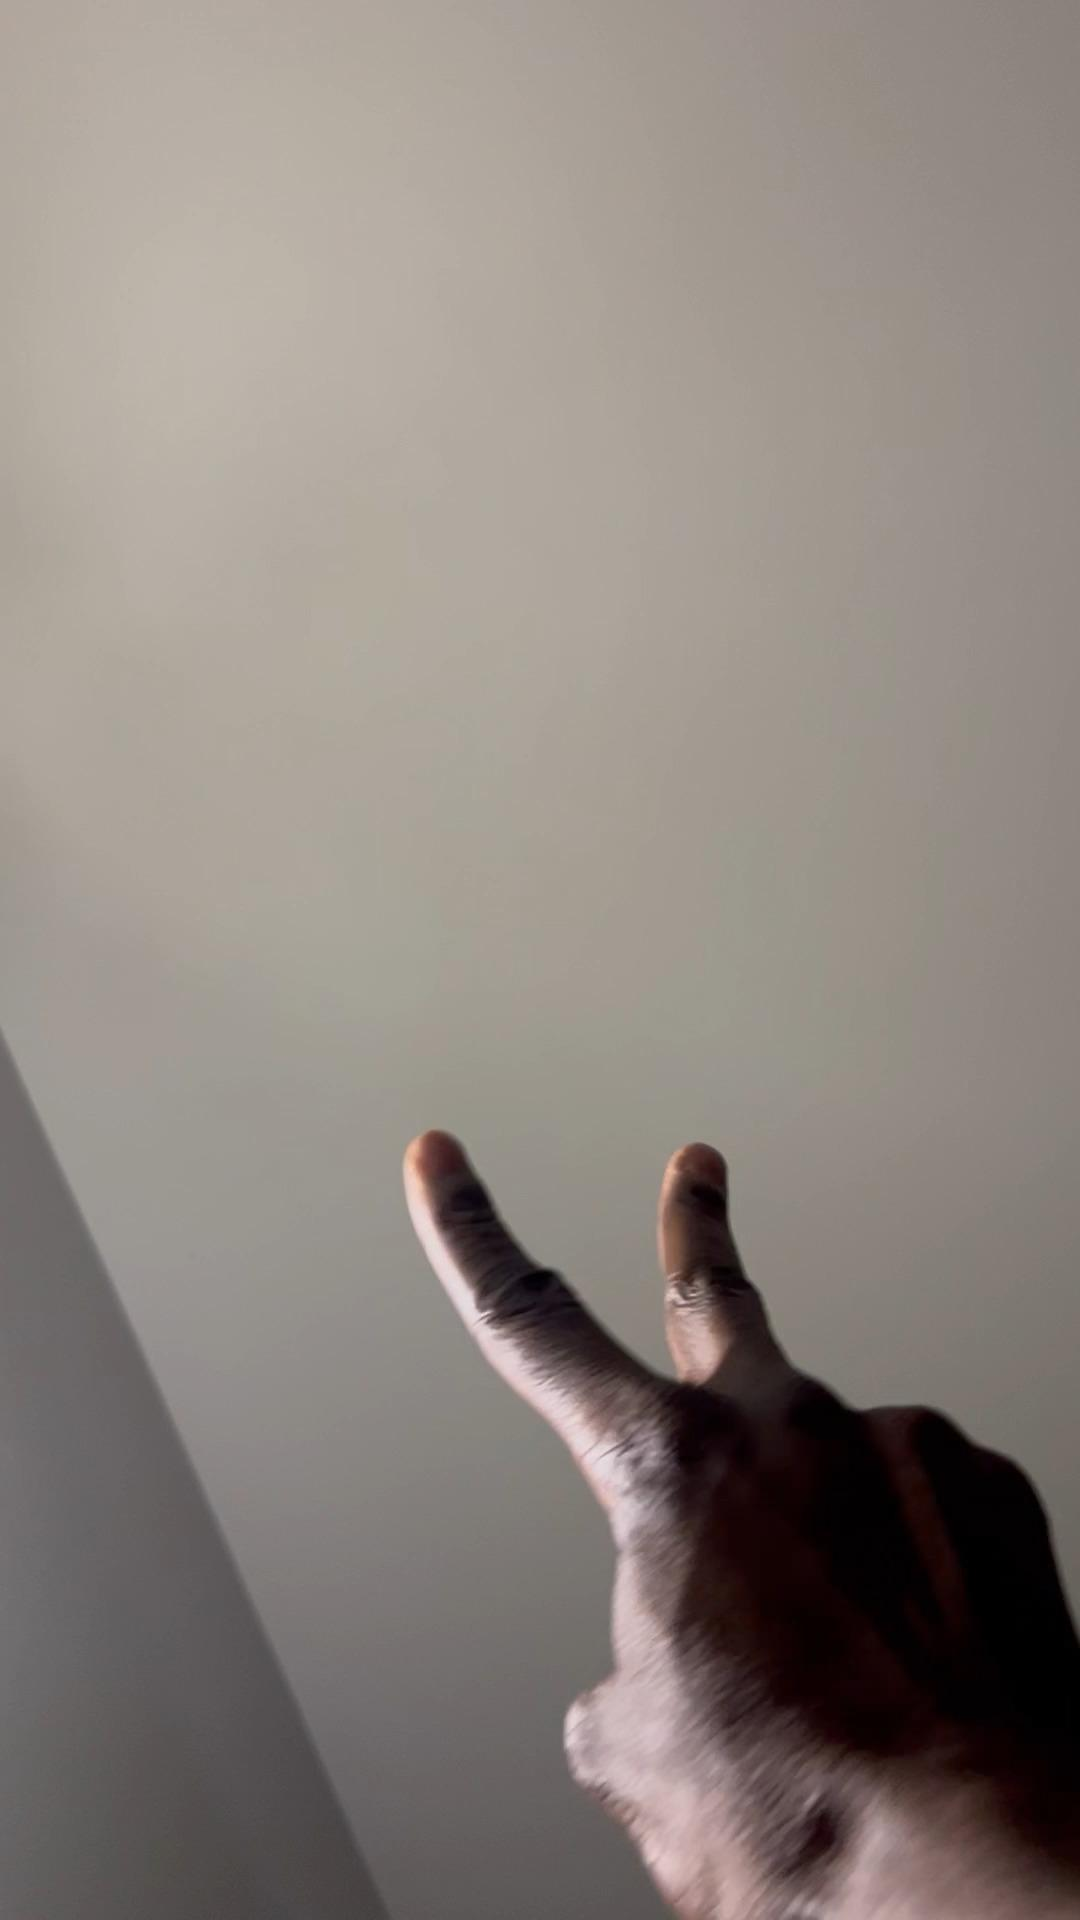Scissors: (400, 1124, 1080, 1920)
